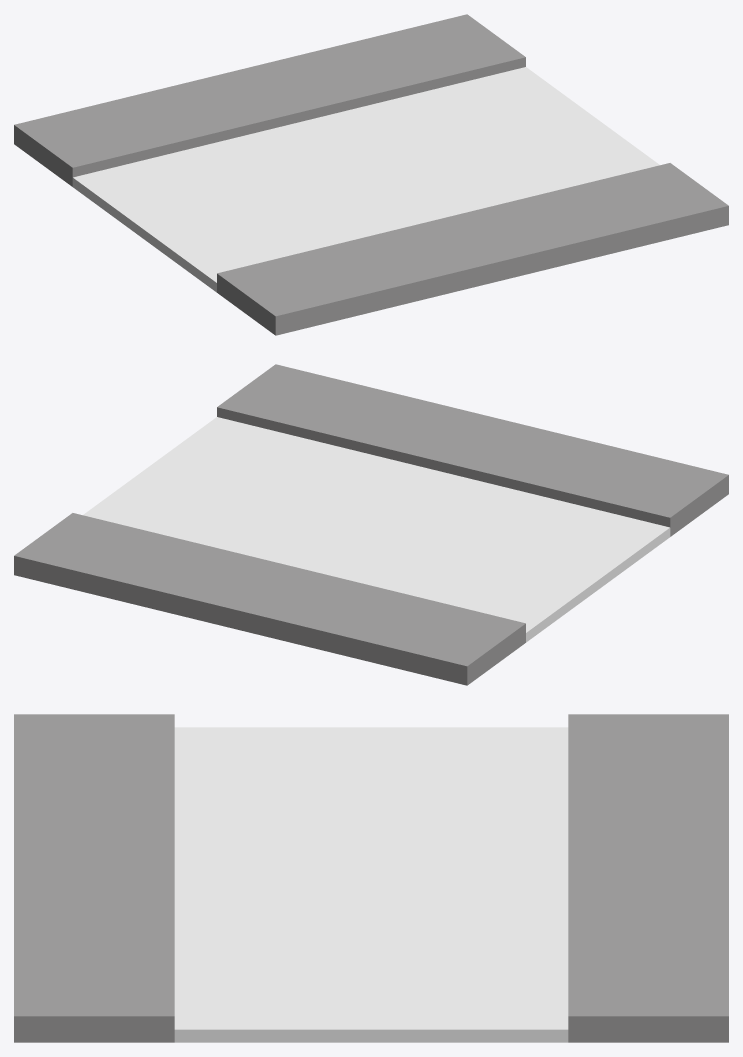
The model's file is road_49.gltf.
The picture shows the model from 3 angles, top to bottom: view 1: azimuth 30°, elevation 25°; view 2: azimuth 150°, elevation 25°; view 3: azimuth 270°, elevation 25°; orthographic projection. The views are drawn at different scales.
Parts seen in each view (by area): view 1: stone, tar, ink; view 2: stone, tar, ink; view 3: tar, stone, ink.
Boxes of the visible parts, bbox=[...] form: stone: bbox=[14, 14, 728, 335]; tar: bbox=[78, 71, 659, 288]; ink: bbox=[72, 67, 600, 292]; stone: bbox=[14, 364, 728, 685]; tar: bbox=[83, 421, 664, 638]; ink: bbox=[142, 417, 670, 642]; tar: bbox=[189, 727, 553, 1042]; stone: bbox=[14, 714, 728, 1042]; ink: bbox=[174, 727, 568, 1042].
Bounding box in the file's own units: 49 × 2 × 49.
3 materials, 3 textured.
